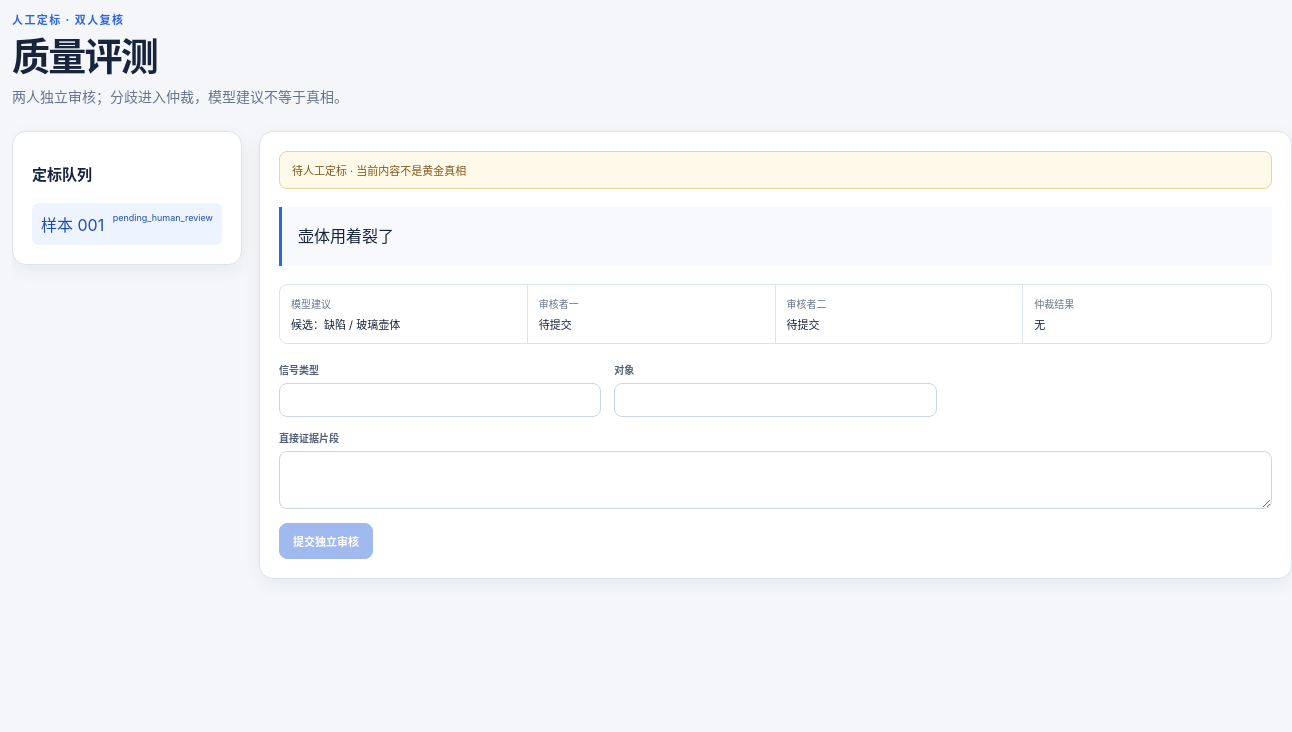
pending evaluation sample keeps model and human labels separate
Expected: the text "待人工定标 · 当前内容不是黄金真相" is shown, [279, 151, 1272, 189]
Expected: the text "候选：缺陷 / 玻璃壶体" is shown, [291, 318, 400, 332]
Type "缺陷" into the field labelled "信号类型" at (440, 400), box [279, 383, 601, 417]
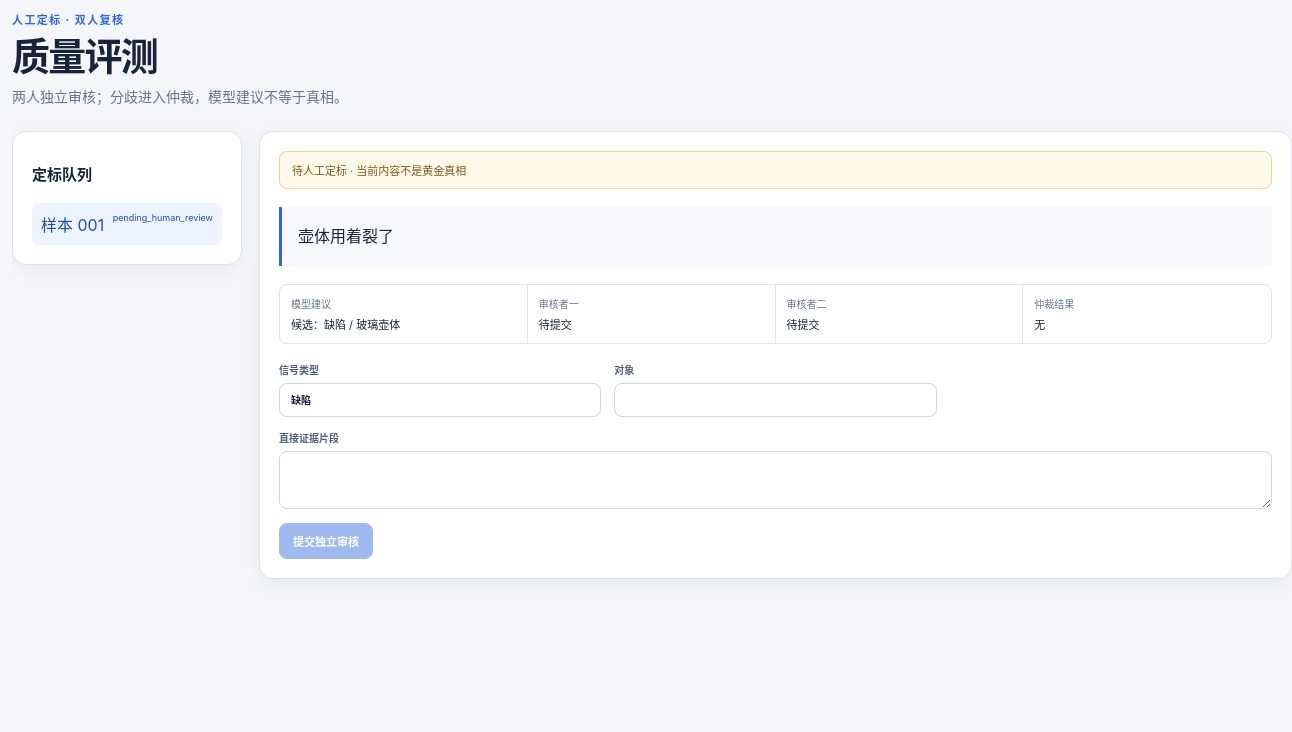
Type "玻璃壶体" into the field labelled "对象" at (775, 400), box [614, 383, 937, 417]
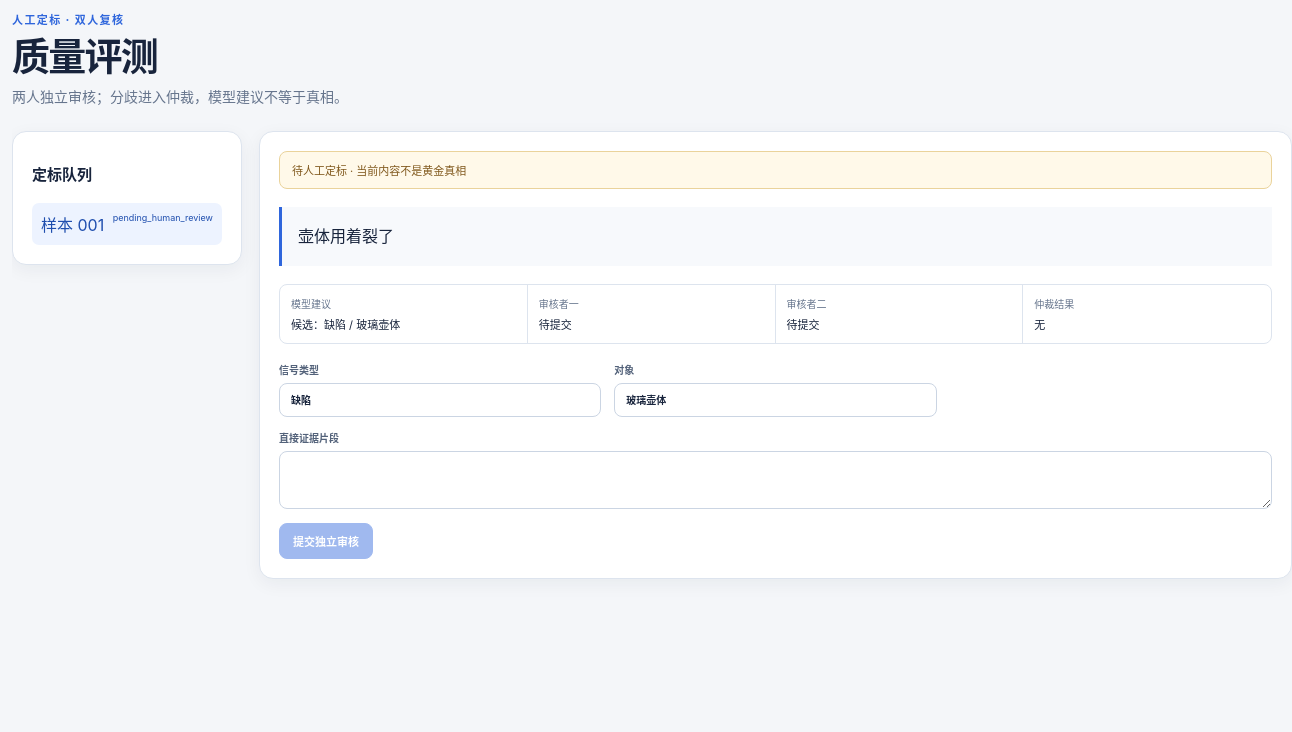
Type "壶体用着裂了" into the text box labelled "直接证据片段" at (776, 480), box [279, 451, 1272, 509]
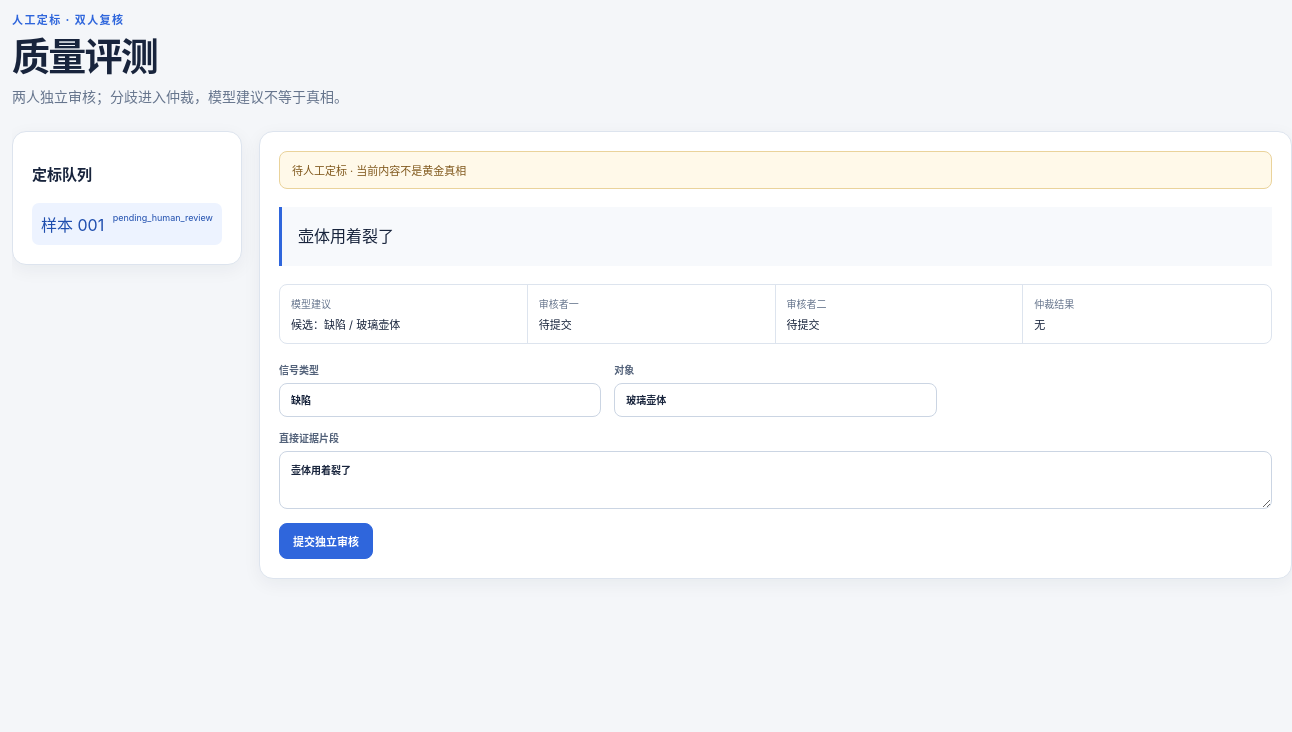
Click the button "提交独立审核" at (326, 541), box [279, 523, 373, 559]
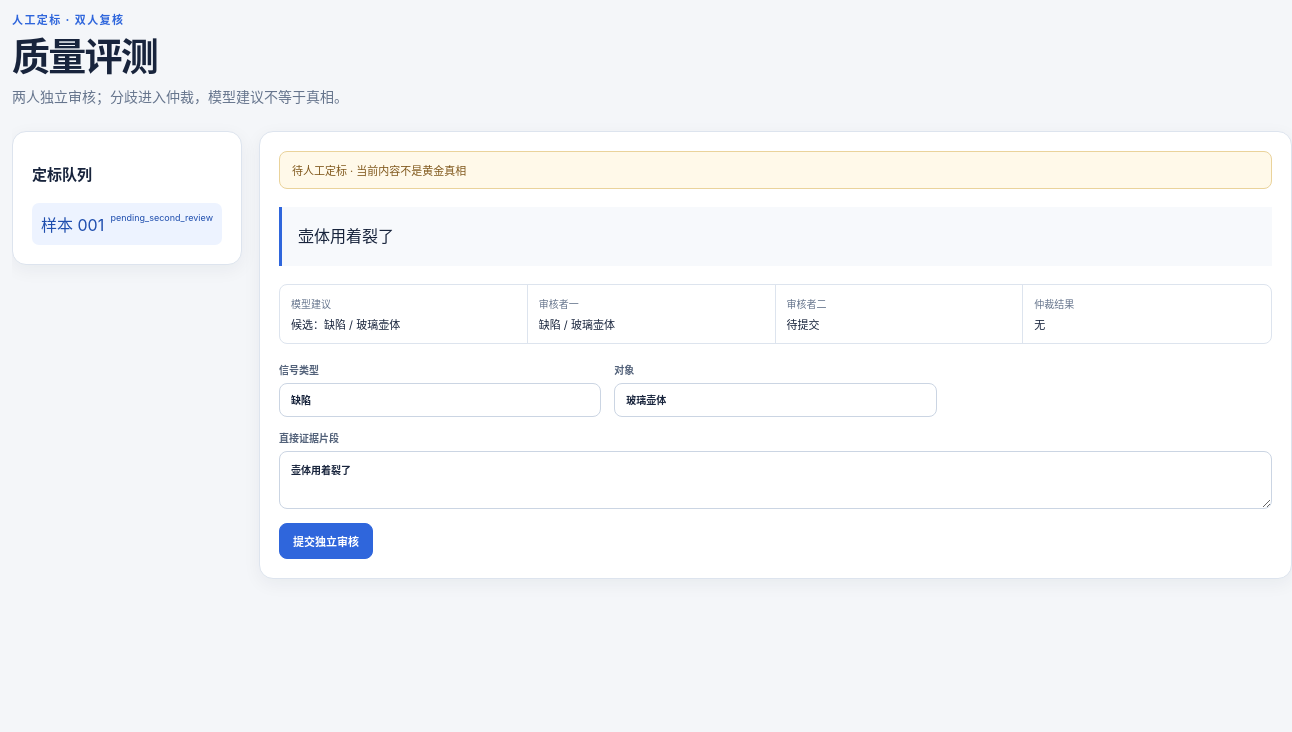
Expected: the text "待提交" is shown, [786, 318, 820, 332]
Now the text "缺陷 / 玻璃壶体" is shown, box [539, 318, 615, 332]
